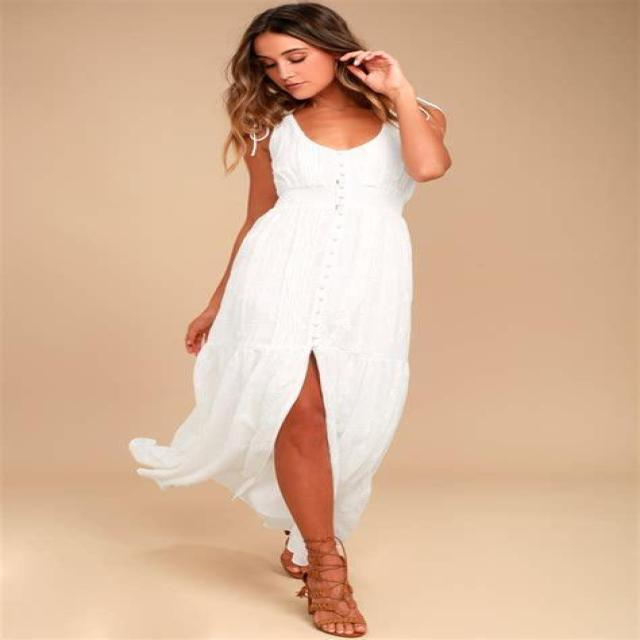dress: (128, 112, 420, 568)
